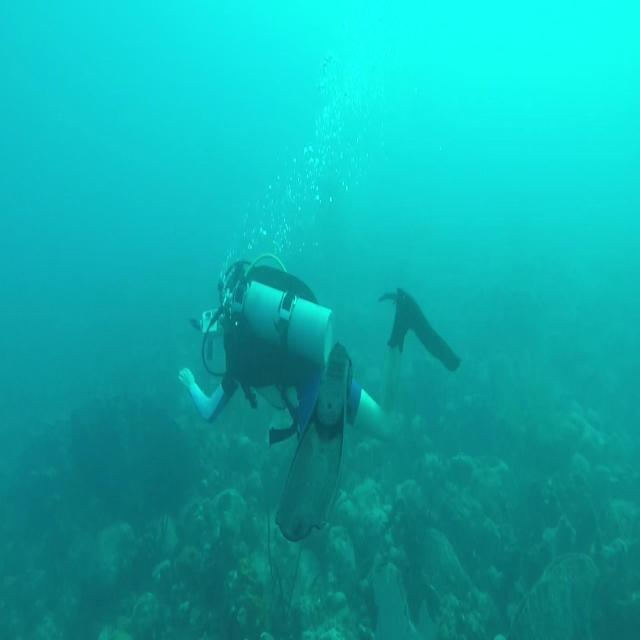human: (178, 252, 461, 544)
